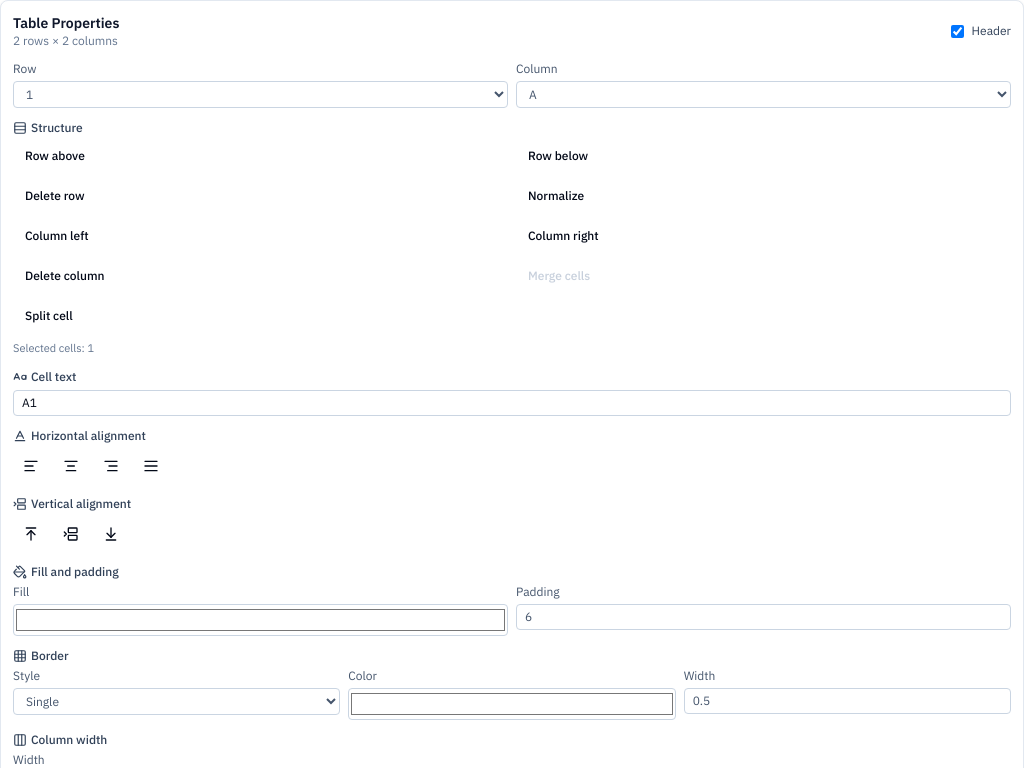
Scenario: WriterTablePropertiesPanel structural editing › cancels a cell-text draft on Escape without mutating Writer state
Step 1. Replace the text in the field named "Selected table cell text" with "Discard me" → (512, 402), box [13, 390, 1011, 416]
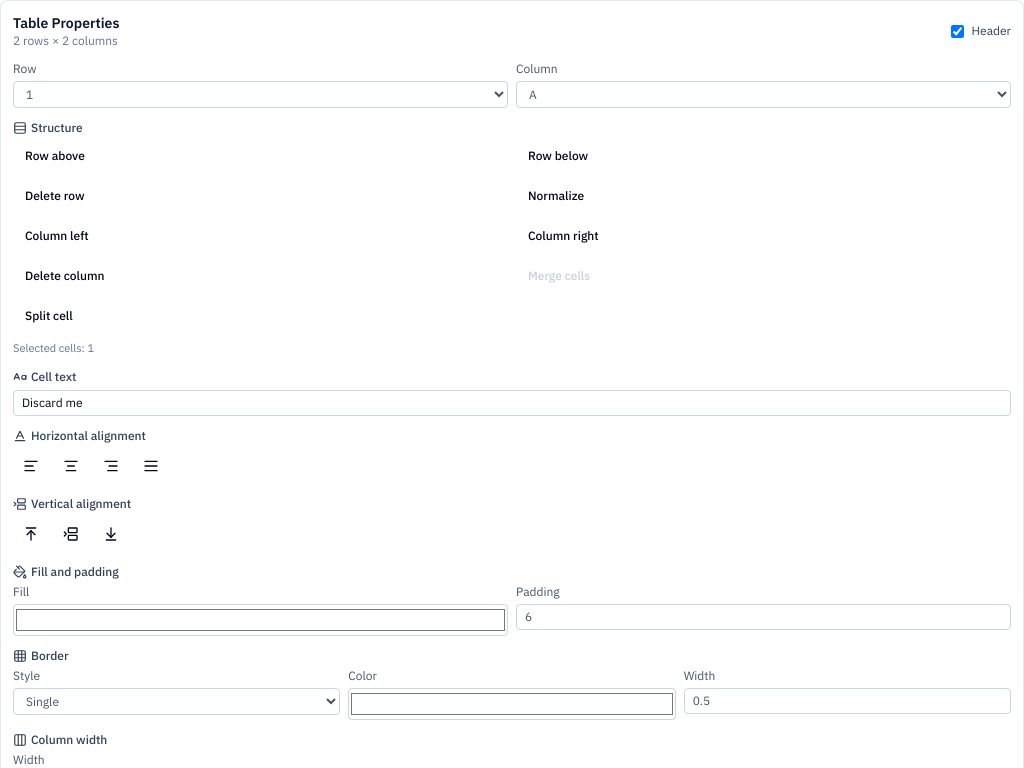
Step 2. Press Escape in the field named "Selected table cell text", box [13, 390, 1011, 416]
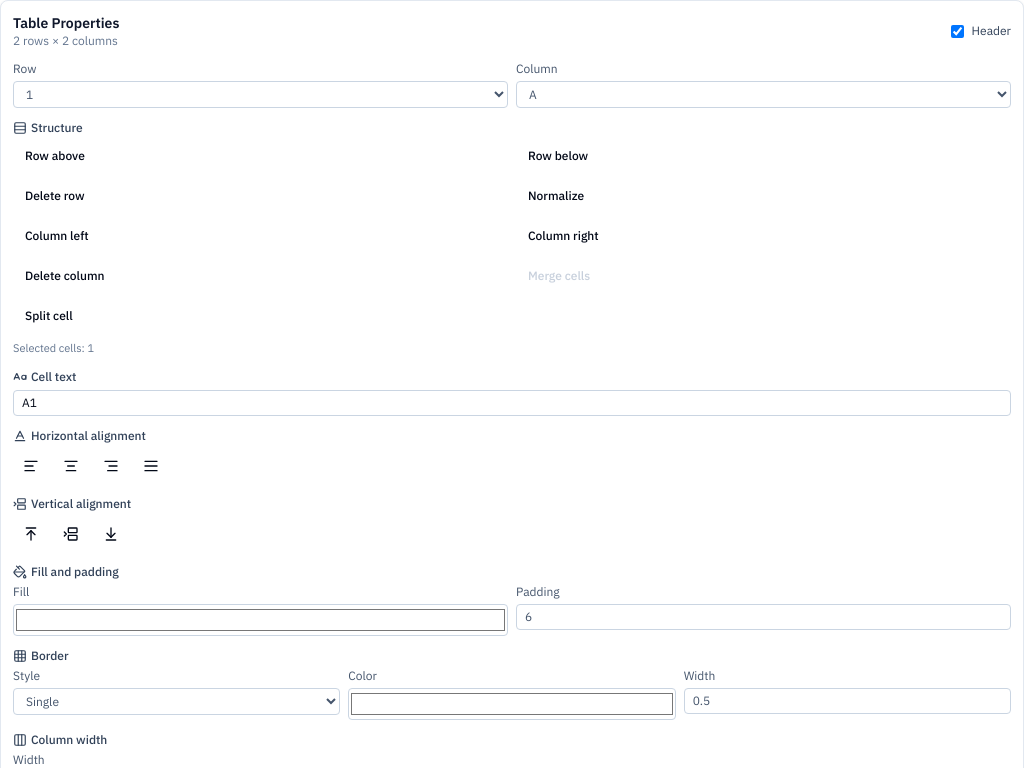
Check: the field named "Selected table cell text" holds "A1", box [13, 390, 1011, 416]
